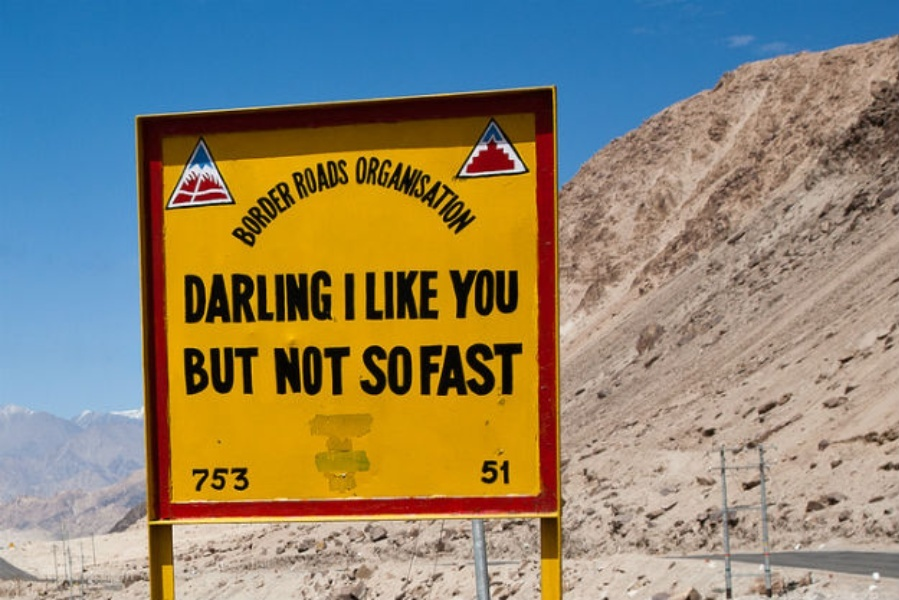text: (369, 137, 384, 236), (385, 137, 400, 236), (401, 137, 416, 236), (417, 137, 432, 236), (433, 137, 448, 236), (449, 137, 464, 236), (465, 137, 480, 236), (241, 172, 256, 249), (257, 172, 272, 249), (273, 172, 288, 249), (481, 137, 492, 236), (228, 172, 240, 249), (433, 340, 448, 398), (449, 340, 464, 398), (465, 340, 480, 398), (481, 340, 496, 398), (497, 340, 512, 398), (418, 340, 432, 398), (193, 270, 208, 324), (209, 270, 224, 324), (225, 270, 240, 324), (241, 270, 256, 324), (257, 270, 272, 324), (273, 270, 288, 324), (289, 270, 304, 324), (305, 270, 320, 324), (369, 267, 384, 321), (385, 267, 400, 321), (401, 267, 416, 321), (417, 267, 432, 321), (273, 344, 288, 396), (289, 344, 304, 396), (305, 344, 320, 396), (321, 344, 336, 396), (369, 344, 384, 396), (385, 344, 400, 396), (449, 268, 464, 318), (465, 268, 480, 318), (481, 268, 496, 318), (497, 268, 512, 318), (193, 346, 208, 396), (209, 346, 224, 396), (225, 346, 240, 396), (241, 346, 256, 396), (305, 153, 320, 202), (321, 153, 336, 202), (337, 344, 351, 396), (289, 172, 298, 249), (290, 153, 304, 202), (321, 270, 333, 324), (401, 344, 413, 396), (337, 153, 349, 202), (513, 340, 523, 398), (182, 346, 192, 396), (183, 270, 192, 324), (344, 270, 352, 326), (193, 465, 208, 493), (209, 465, 224, 493), (225, 465, 240, 493), (360, 344, 368, 396), (481, 458, 496, 484), (513, 268, 520, 318), (497, 458, 510, 484), (433, 267, 439, 321), (241, 465, 251, 493), (364, 267, 368, 321), (353, 270, 356, 326), (257, 346, 259, 396), (367, 137, 368, 236), (190, 465, 192, 493)
